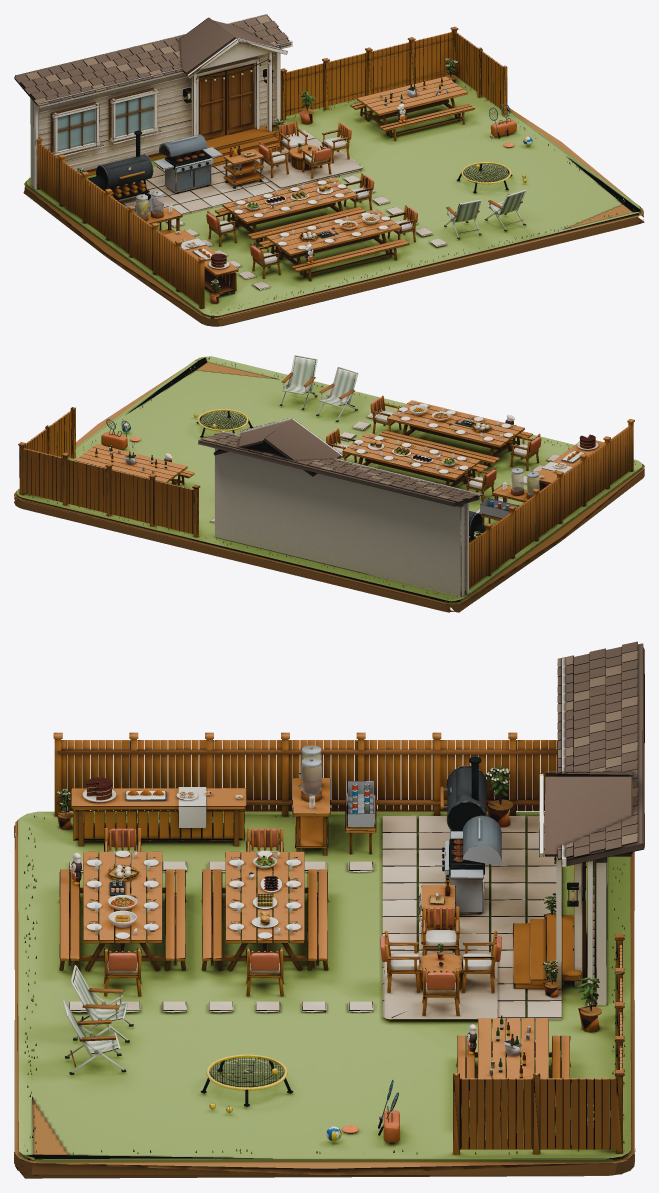
Rendered from garden-baked.glb.
The picture shows the model from 3 angles, top to bottom: view 1: azimuth 30°, elevation 25°; view 2: azimuth 150°, elevation 25°; view 3: azimuth 270°, elevation 25°; orthographic projection. The views are drawn at different scales.
Visible parts, largest first — view 1: Baked garden architecture, Baked garden details, Live glass and reflective metal; view 2: Baked garden architecture, Baked garden details, Live glass and reflective metal; view 3: Baked garden architecture, Baked garden details, Live glass and reflective metal.
Part boxes in pixels (<box>): Baked garden architecture: <box>14,14,644,326</box>; Baked garden details: <box>176,104,532,268</box>; Live glass and reflective metal: <box>136,177,391,244</box>; Baked garden architecture: <box>14,355,644,612</box>; Baked garden details: <box>121,405,598,478</box>; Live glass and reflective metal: <box>353,400,539,494</box>; Baked garden architecture: <box>14,641,644,1178</box>; Baked garden details: <box>70,777,476,1141</box>; Live glass and reflective metal: <box>95,753,321,934</box>.
Bounding box in the file's own units: 16.5 × 4.46 × 12.19.
3 materials, 2 textured.
